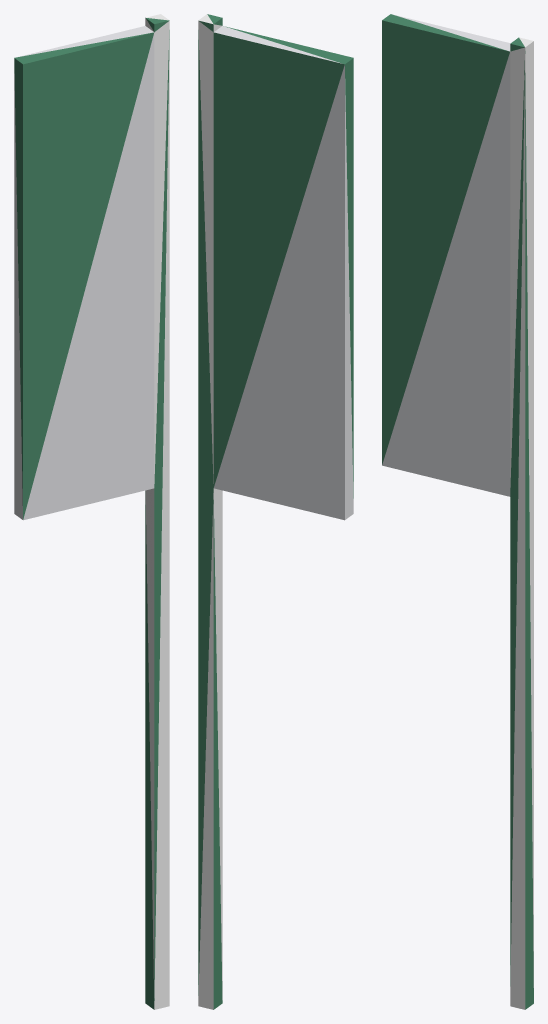
The model's file is flagGreen.glb.
3 renders of one model, left to right at view 1: azimuth 30°, elevation 25°; view 2: azimuth 150°, elevation 25°; view 3: azimuth 330°, elevation 25°, orthographic. The views are drawn at different scales.
Visible parts, largest first — view 1: flagGreen; view 2: flagGreen; view 3: flagGreen.
Part boxes in pixels (<box>): flagGreen: <box>14,14,169,1009</box>; flagGreen: <box>198,14,353,1009</box>; flagGreen: <box>382,14,533,1009</box>.
Bounding box in the file's own units: 1.9 × 12.2 × 0.2.
